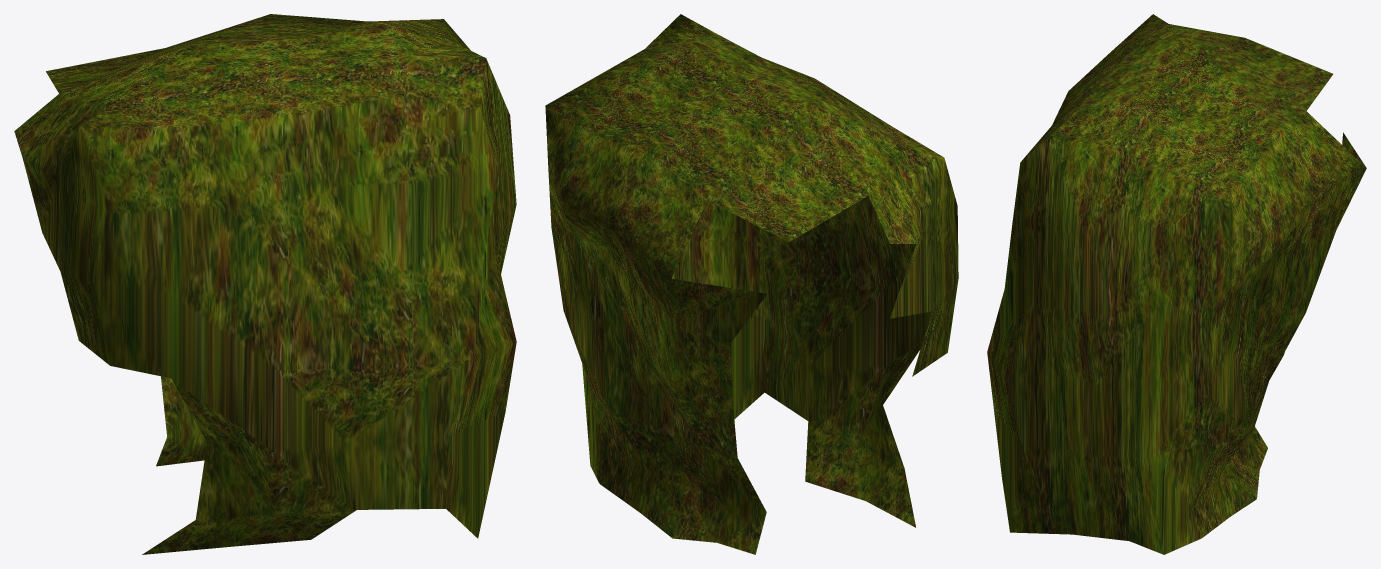
File: TROLLHOLE02_BOX329.fbx
3 views of the same model, side by side, from view 1: azimuth 30°, elevation 25°; view 2: azimuth 150°, elevation 25°; view 3: azimuth 270°, elevation 25° (orthographic). The views are drawn at different scales.
Visible parts, largest first — view 1: TROLLHOLE02_BOX329; view 2: TROLLHOLE02_BOX329; view 3: TROLLHOLE02_BOX329.
Part boxes in pixels (bbox=[...]): TROLLHOLE02_BOX329: bbox=[14, 14, 516, 554]; TROLLHOLE02_BOX329: bbox=[545, 14, 958, 554]; TROLLHOLE02_BOX329: bbox=[987, 14, 1366, 554].
Size of the model in its own units: 101926 by 108608 by 88668.
Materials: 1 (1 with a texture image).
